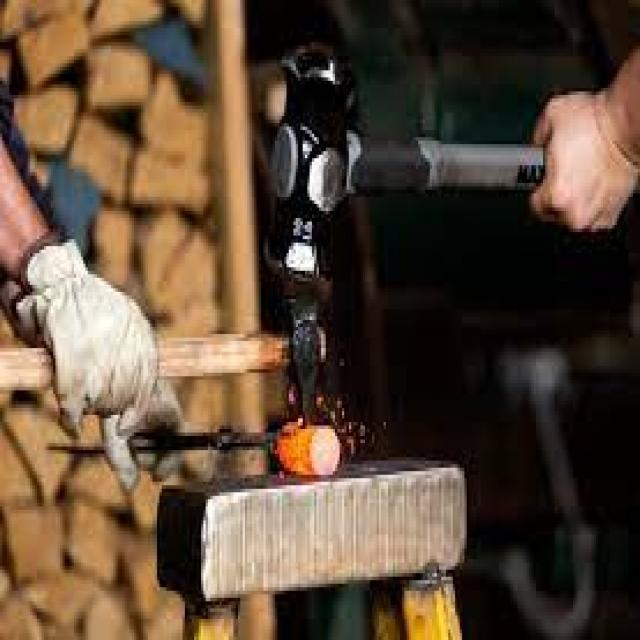hammer: (253, 33, 549, 283), (154, 288, 353, 426)
